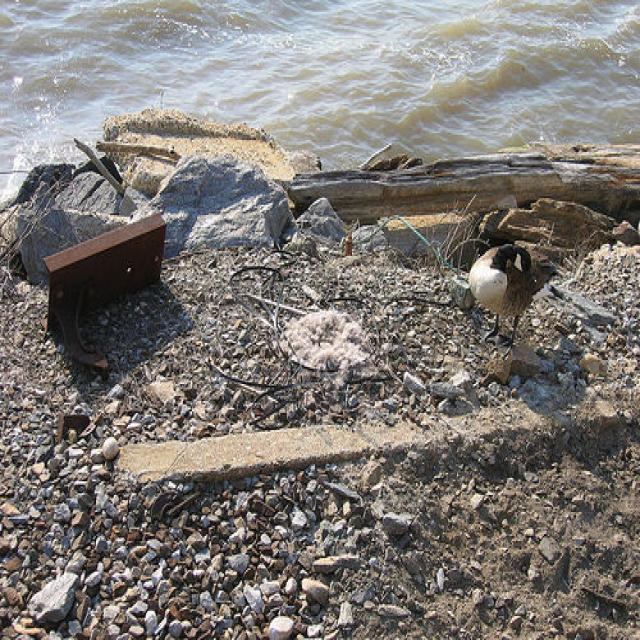bird: (466, 240, 553, 349)
